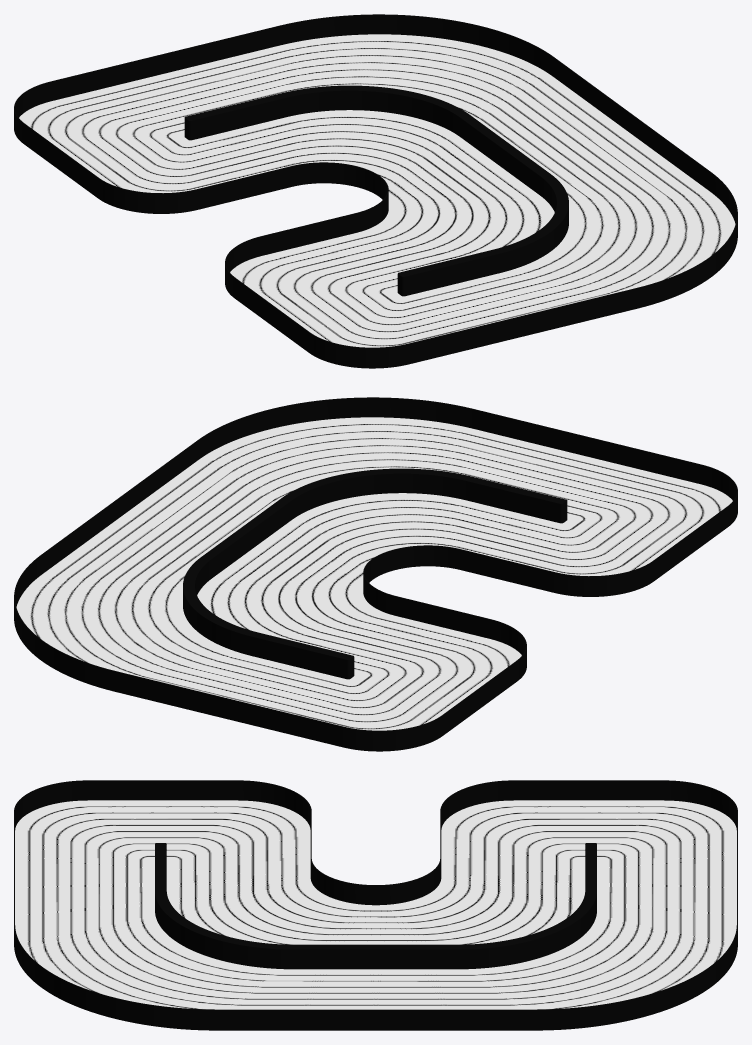
The model's file is RoBo_PlayGround.dae.
3 renders of one model, top to bottom at view 1: azimuth 30°, elevation 25°; view 2: azimuth 150°, elevation 25°; view 3: azimuth 270°, elevation 25°, orthographic.
Parts seen in each view (by area): view 1: Robo_PlayGround; view 2: Robo_PlayGround; view 3: Robo_PlayGround.
Boxes of the visible parts, x1=… form: Robo_PlayGround: x1=14, y1=14, x2=737, y2=368; Robo_PlayGround: x1=14, y1=397, x2=737, y2=751; Robo_PlayGround: x1=14, y1=780, x2=737, y2=1030.
Size of the model in its own units: 3.01 by 4.01 by 0.126.
Materials: 2 (1 with a texture image).
